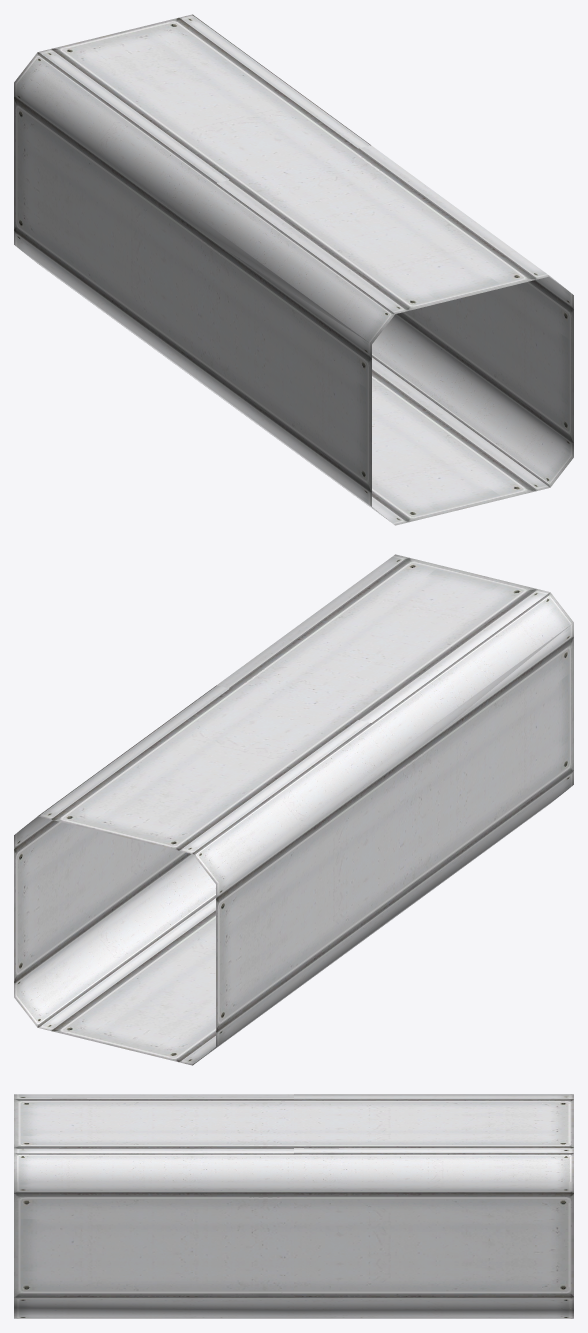
File: GroundBrace_1x4cappedB.FBX
3 renders of one model, top to bottom at view 1: azimuth 30°, elevation 25°; view 2: azimuth 150°, elevation 25°; view 3: azimuth 270°, elevation 25°, orthographic. The views are drawn at different scales.
Parts seen in each view (by area): view 1: GroundBrace_1x4cappedB; view 2: GroundBrace_1x4cappedB; view 3: GroundBrace_1x4cappedB.
Boxes of the visible parts, box(x1,y1,x2,y2) form: GroundBrace_1x4cappedB: box(14, 14, 573, 525); GroundBrace_1x4cappedB: box(14, 554, 573, 1065); GroundBrace_1x4cappedB: box(14, 1094, 573, 1318).
Bounding box in the file's own units: 1.3 × 1.3 × 4.
